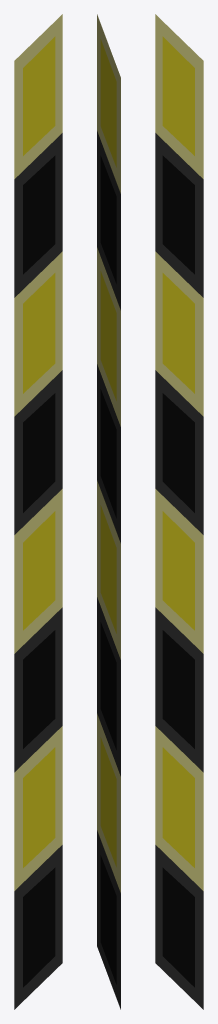
The model's file is ConstructionTapeLarge.fbx.
3 views of the same model, side by side, from view 1: azimuth 90°, elevation 25°; view 2: azimuth 210°, elevation 25°; view 3: azimuth 270°, elevation 25° (orthographic).
Visible parts, largest first — view 1: ConstructionTapeLarge; view 2: ConstructionTapeLarge; view 3: ConstructionTapeLarge.
Part boxes in pixels (x1,y1,x2,y2): ConstructionTapeLarge: (14, 14, 62, 1009); ConstructionTapeLarge: (97, 14, 120, 1009); ConstructionTapeLarge: (155, 14, 203, 1009).
Bounding box in the file's own units: 0 × 209 × 9.17.
